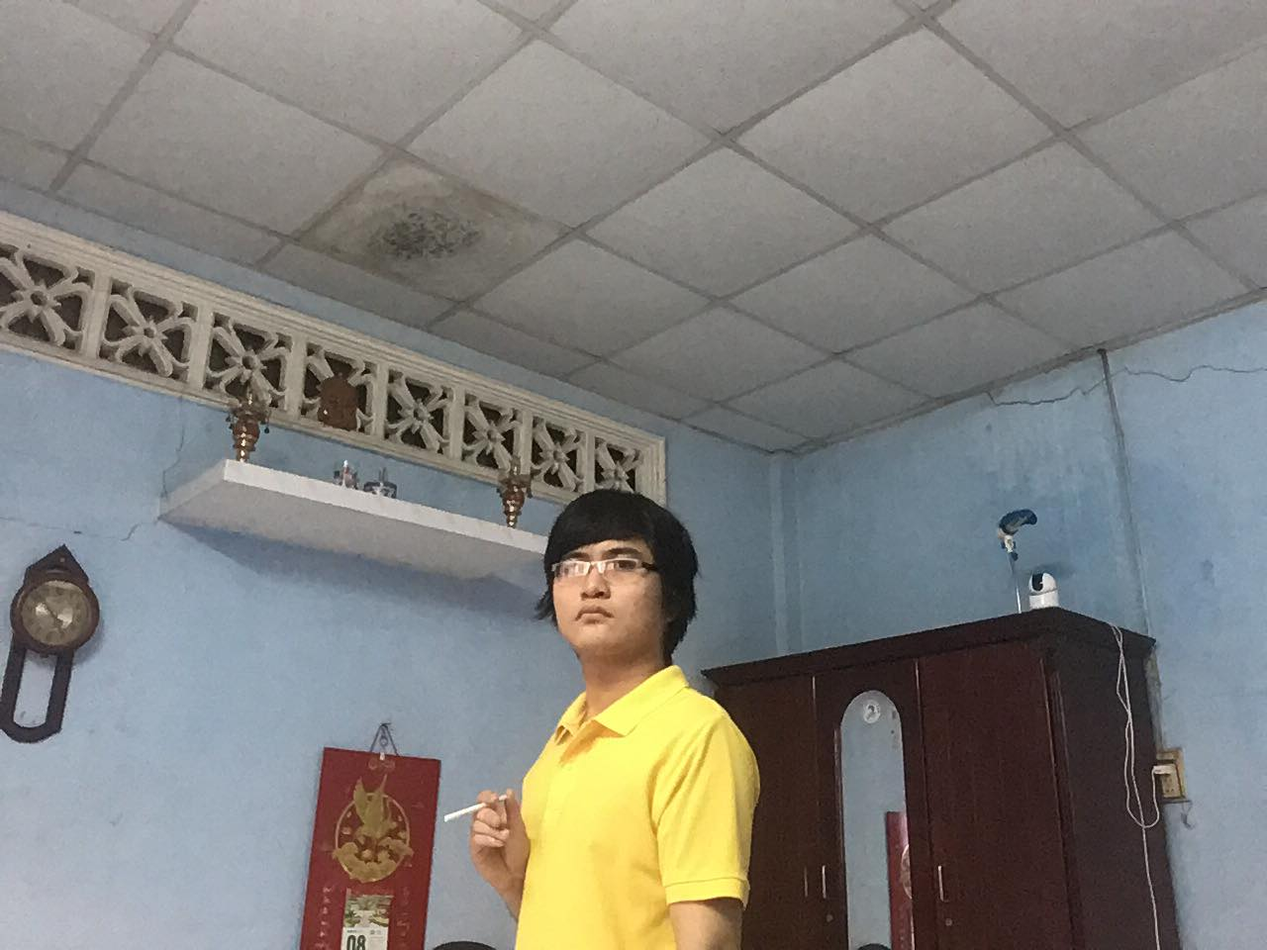cigarette: (440, 799, 479, 826)
person: (438, 491, 765, 950)
